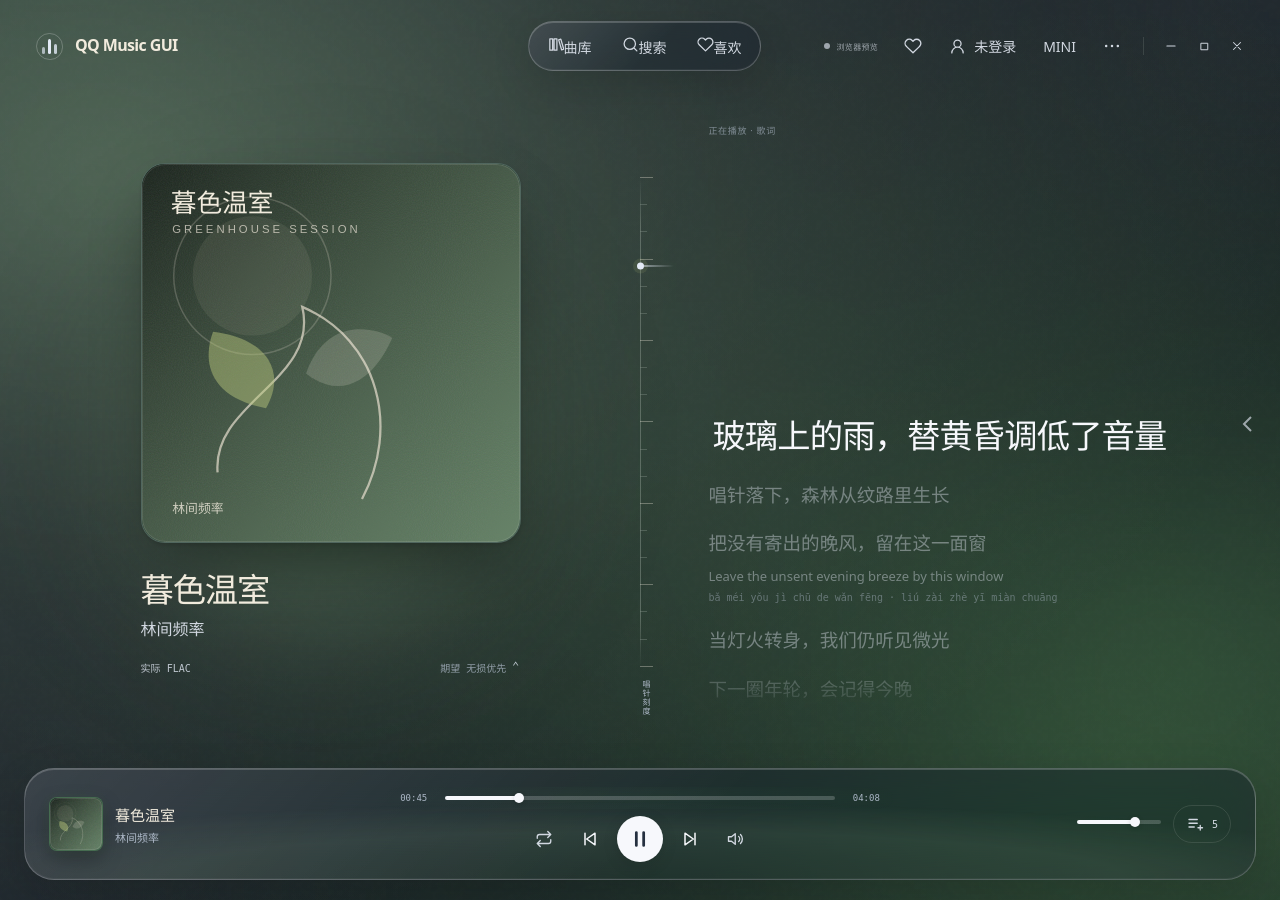
Test: React Terminal Mini Mode › 保持同一播放快照并支持歌词面板与 G 返回
(page scrolled)
Click the button with aria-label "进入终端模式" at (1060, 46), box [1033,27,1086,65]
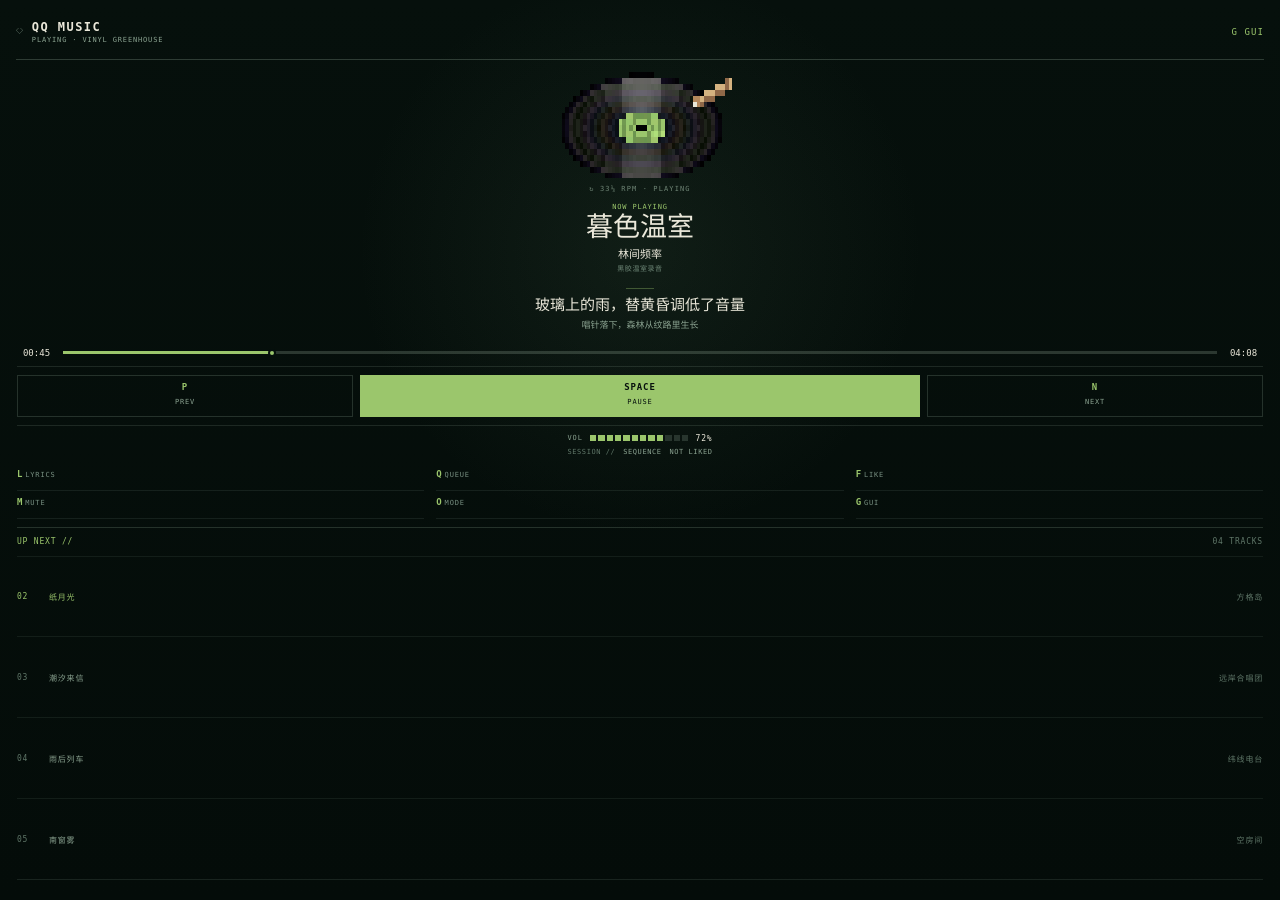
Expected: the heading "暮色温室" is shown, [586,213,694,243]
Now the element with test id "terminal-mini" is shown
Press l
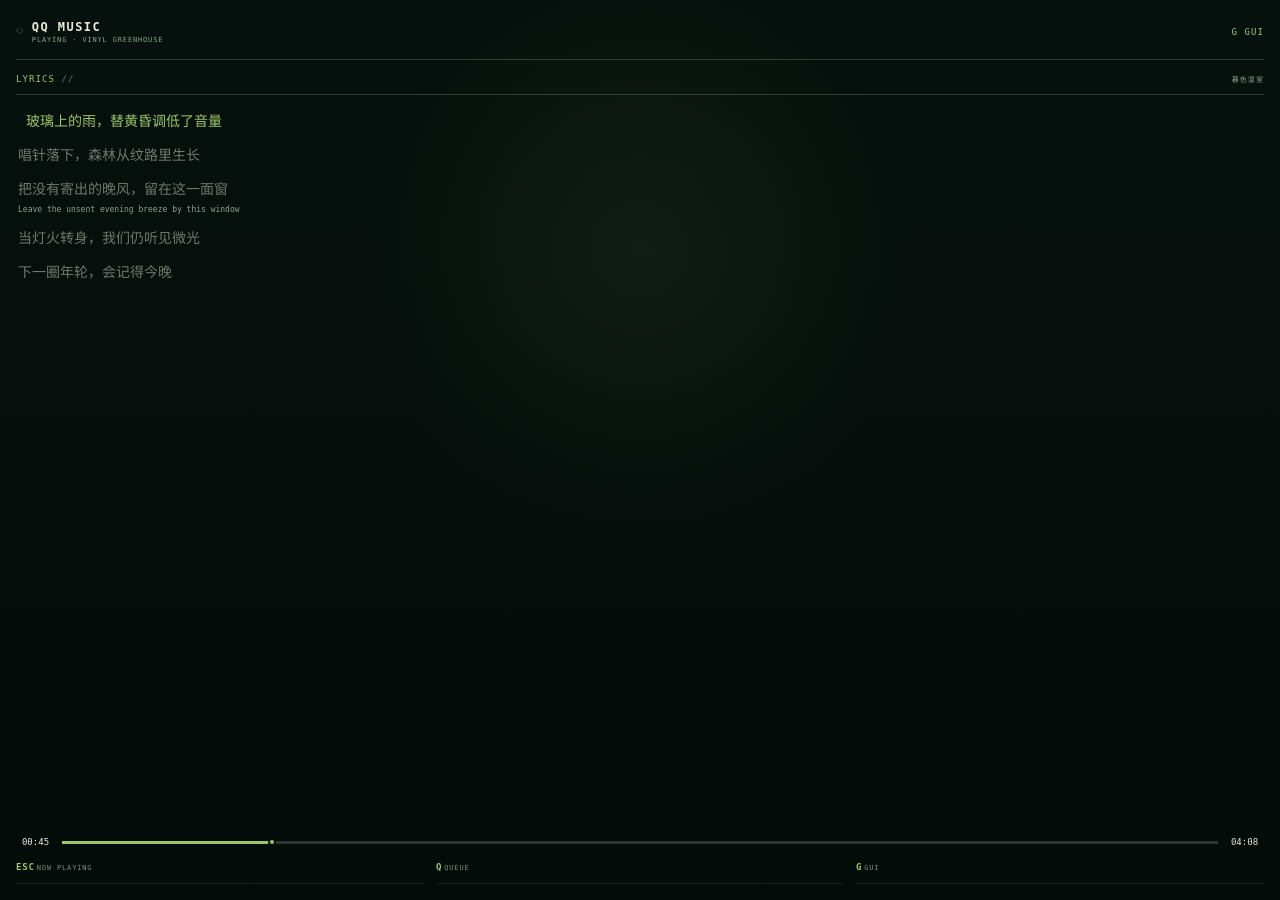
Expected: the text "唱针落下，森林从纹路里生长" is shown, [18,148,200,163]
Now the element named "歌词" is shown, box [16,72,1264,280]
Press g
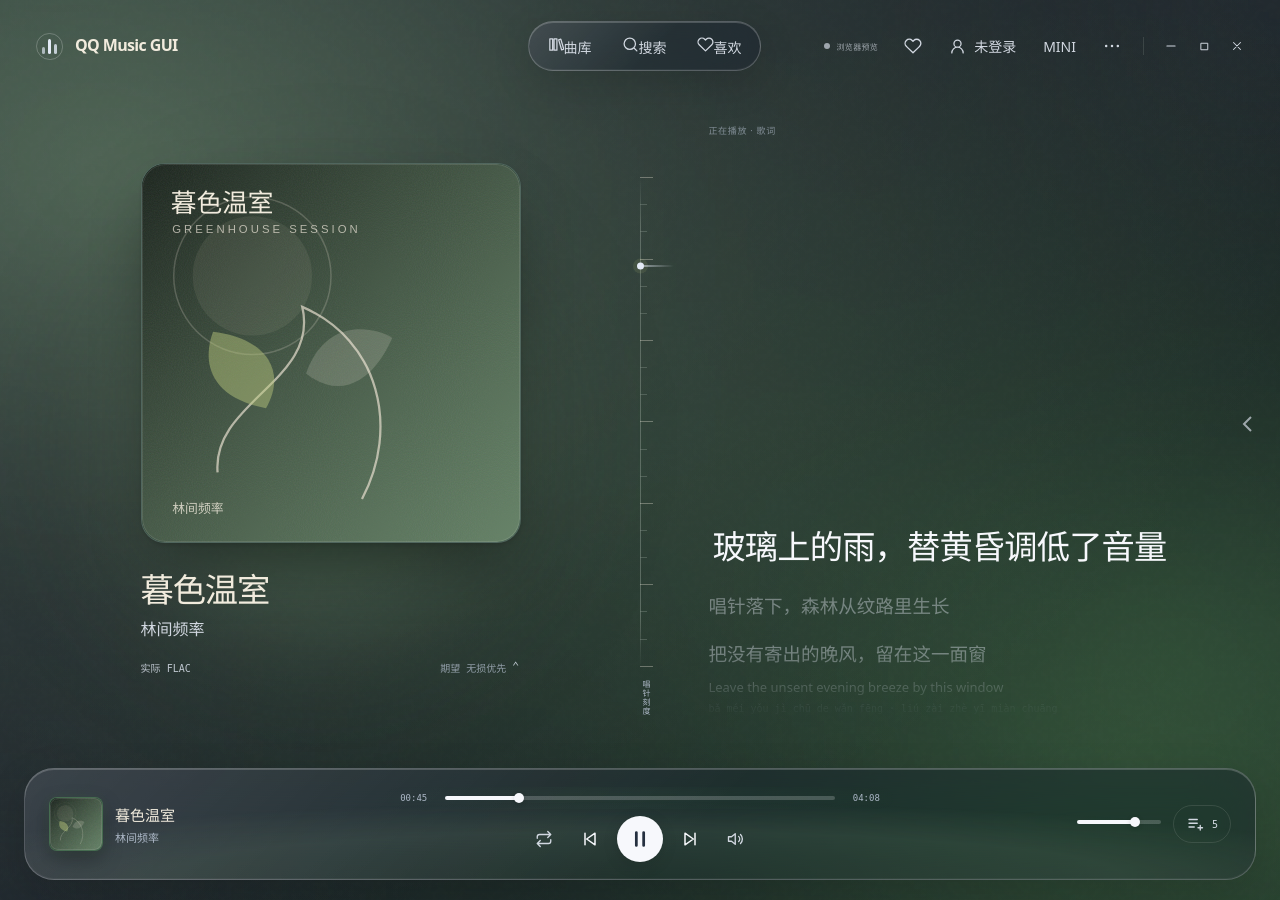
Now the button with aria-label "进入终端模式" is shown, box [1033,27,1086,65]
Now the element with test id "terminal-mini" is gone
